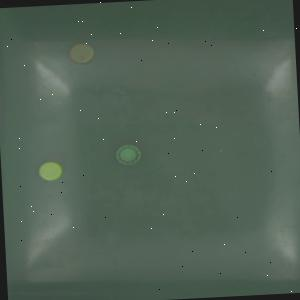others: (68, 42, 94, 64), (115, 144, 141, 164), (36, 161, 62, 181)
